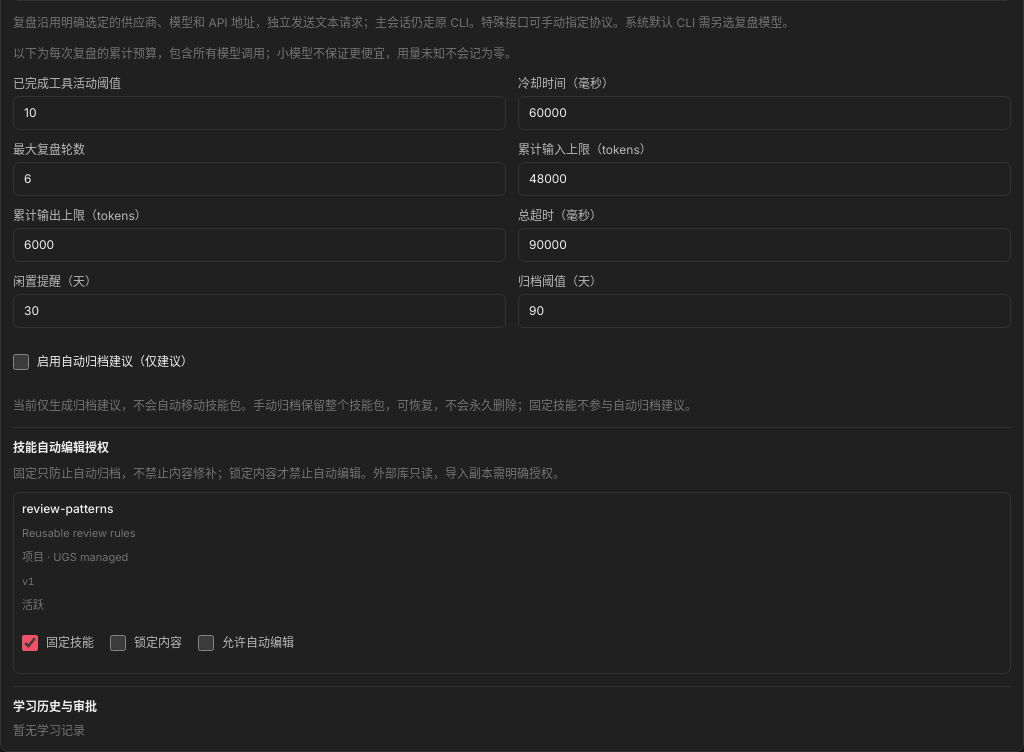
it: SkillLearningSettings › ignores a late permission result after a newer host catalog revision arrives
(page scrolled)
Click the checkbox named "允许自动编辑 review-patterns" at (206, 643), box 198,635 -> 214,651
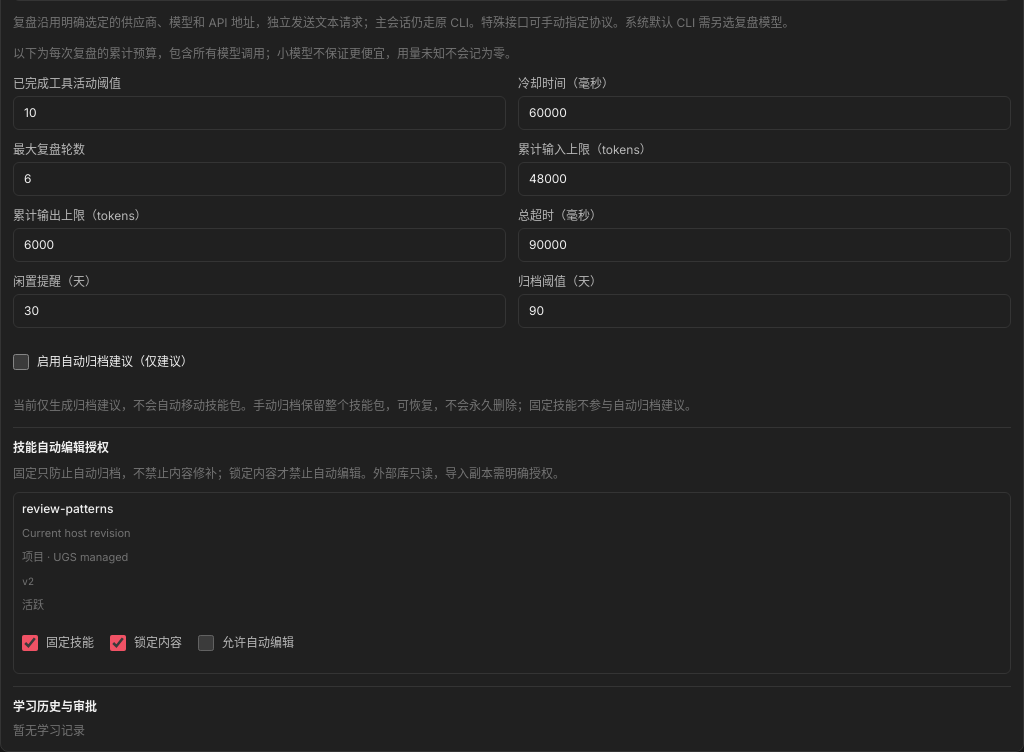
expect the text "Current host revision" is shown: met, box 22,526 -> 131,540
expect the checkbox named "锁定内容 review-patterns" is checked: met, box 110,635 -> 126,651
